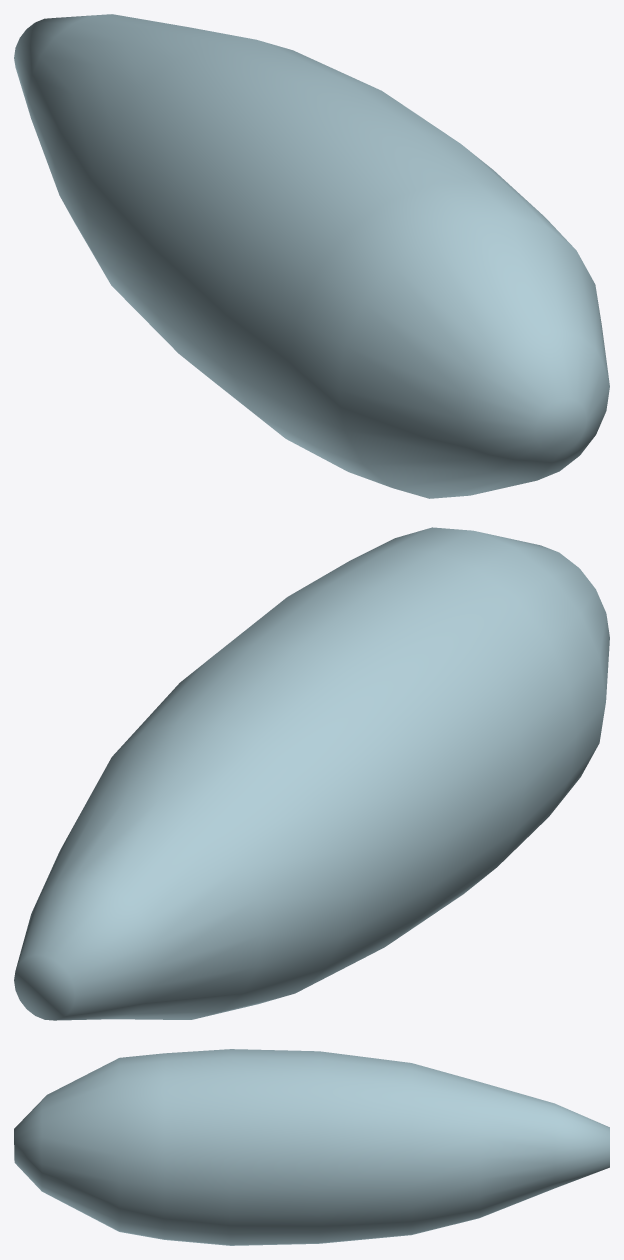
Rendered from airplane.dae.
3 renders of one model, top to bottom at view 1: azimuth 30°, elevation 25°; view 2: azimuth 150°, elevation 25°; view 3: azimuth 270°, elevation 25°, orthographic. The views are drawn at different scales.
Visible parts, largest first — view 1: Body_Base; view 2: Body_Base; view 3: Body_Base.
Boxes of the visible parts, x1=… form: Body_Base: x1=14, y1=14, x2=609, y2=498; Body_Base: x1=14, y1=527, x2=609, y2=1020; Body_Base: x1=14, y1=1049, x2=609, y2=1245.
Bounding box in the file's own units: 2.89 × 8.68 × 2.89.
